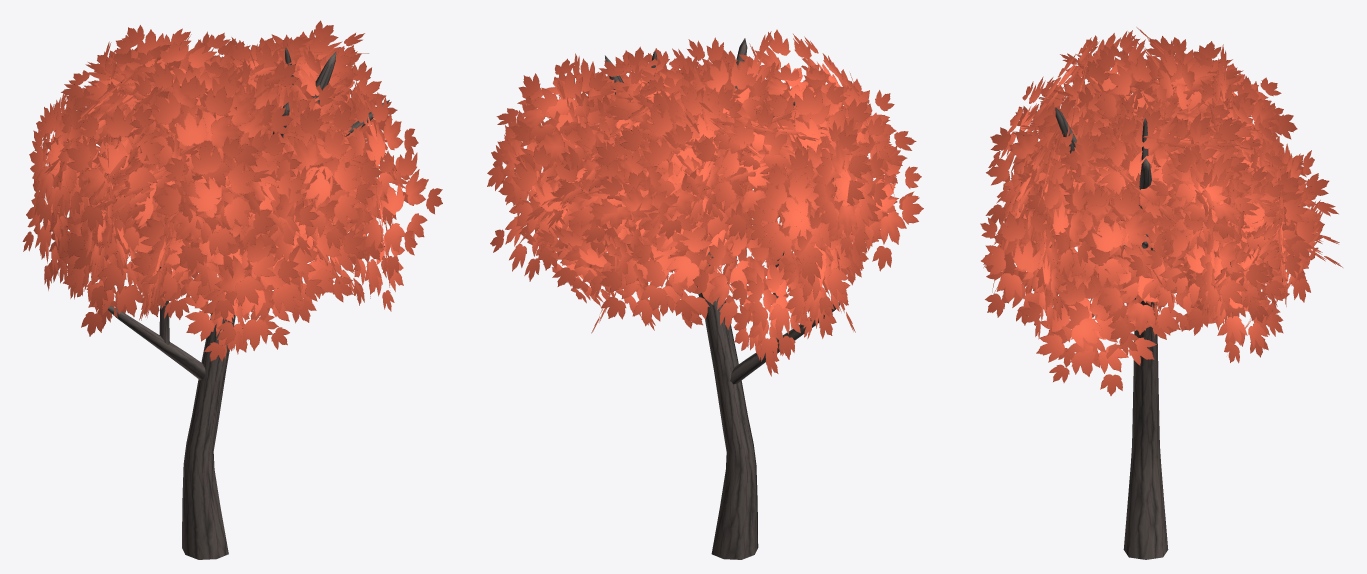
File: MapleTree_4.glb
3 renders of one model, left to right at view 1: azimuth 30°, elevation 25°; view 2: azimuth 150°, elevation 25°; view 3: azimuth 270°, elevation 25°, orthographic. The views are drawn at different scales.
Parts seen in each view (by area): view 1: MapleTree_4; view 2: MapleTree_4; view 3: MapleTree_4.
Boxes of the visible parts, x1,y1,x2,y2 form: MapleTree_4: [22, 20, 442, 559]; MapleTree_4: [487, 29, 923, 559]; MapleTree_4: [980, 27, 1342, 559].
Size of the model in its own units: 2.77 by 3.59 by 2.44.
Materials: 2 (2 with a texture image).
